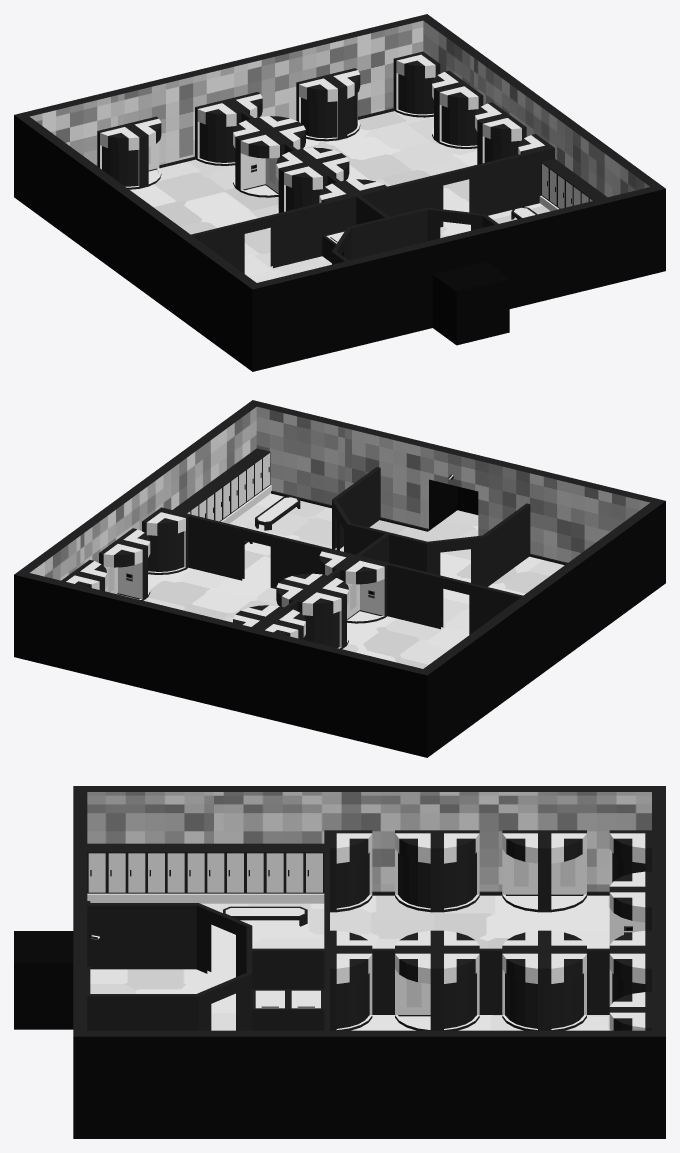
File: Bathroom_1x1x1.fbx
The picture shows the model from 3 angles, top to bottom: view 1: azimuth 30°, elevation 25°; view 2: azimuth 150°, elevation 25°; view 3: azimuth 270°, elevation 25°; orthographic projection. The views are drawn at different scales.
Visible parts, largest first — view 1: Bathroom_1x1x1; view 2: Bathroom_1x1x1; view 3: Bathroom_1x1x1.
Part boxes in pixels (x1=…): Bathroom_1x1x1: x1=14, y1=14, x2=665, y2=371; Bathroom_1x1x1: x1=14, y1=400, x2=665, y2=757; Bathroom_1x1x1: x1=14, y1=786, x2=665, y2=1138.
Size of the model in its own units: 42 by 46.2 by 8.
